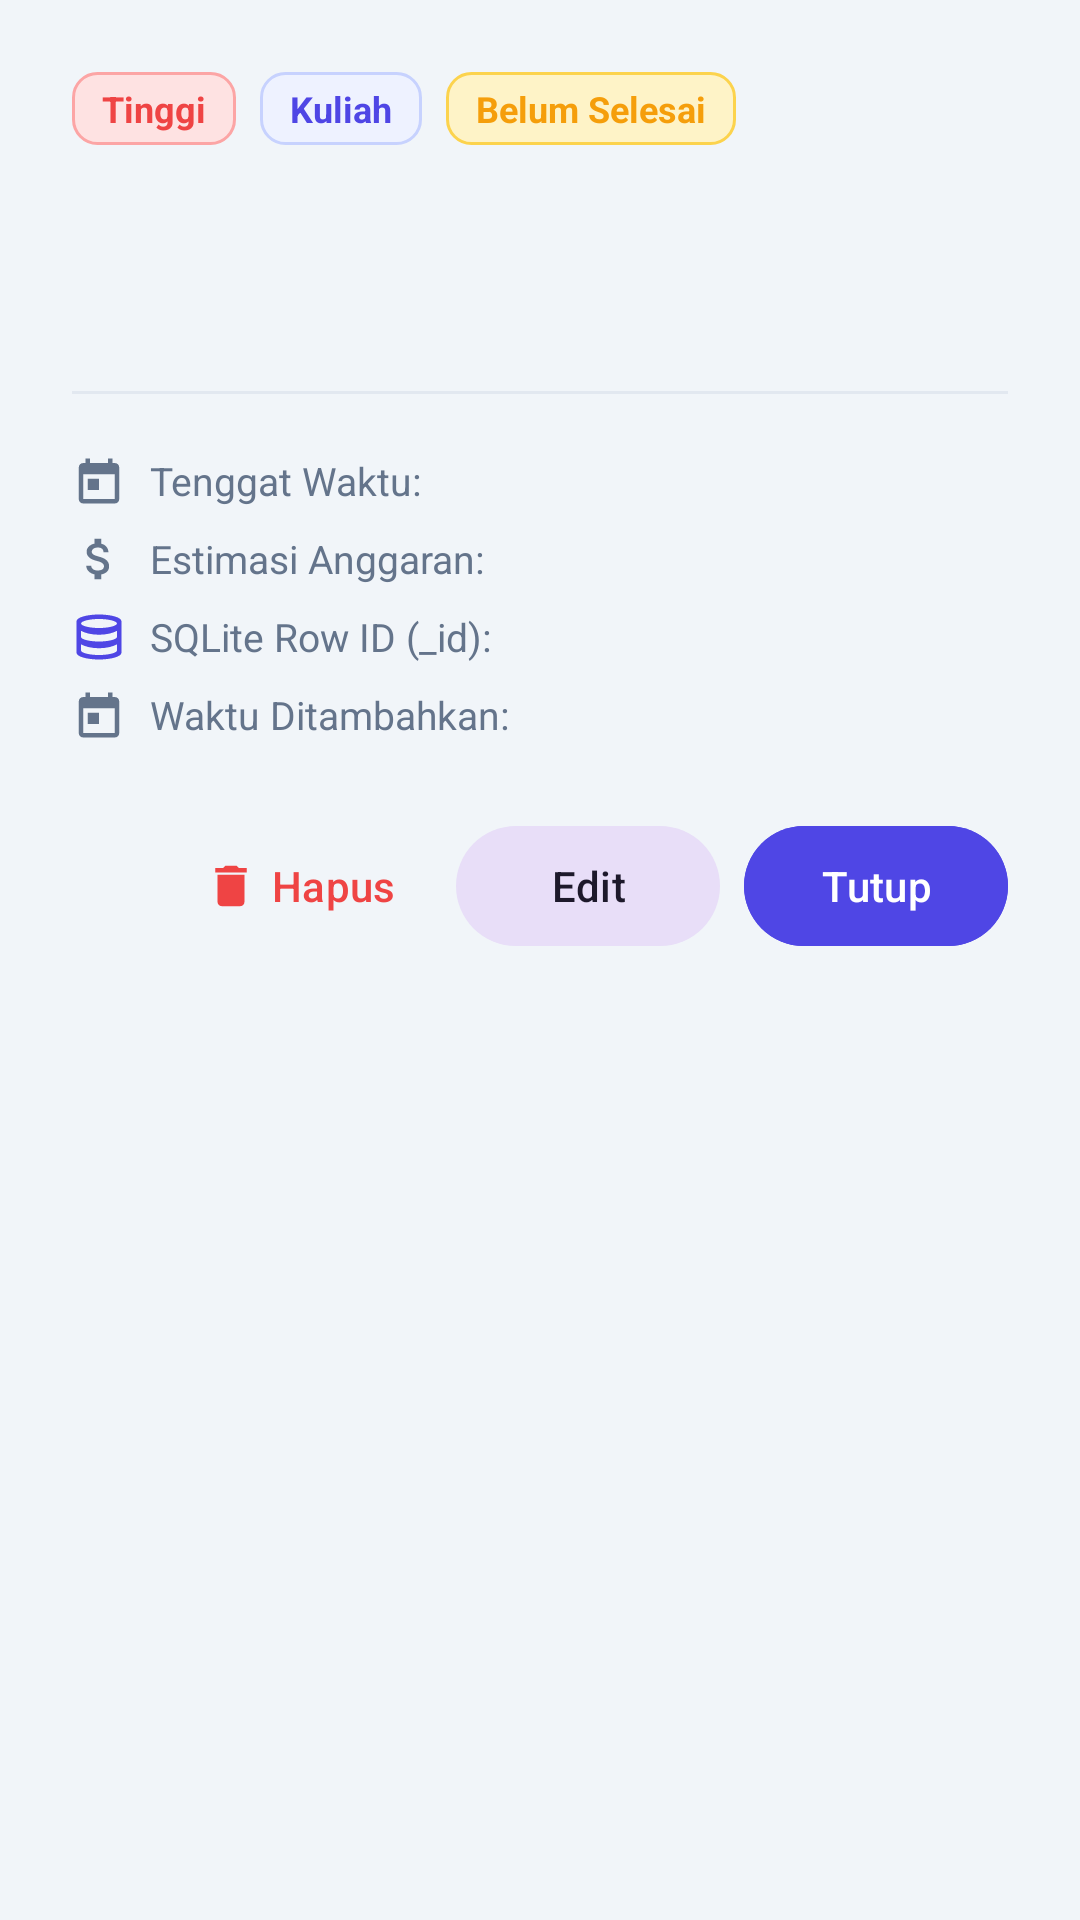

Named icons in this screenshot (1080×1920) and their bounding boxes, (x1, y1, x2, y2):
Budget: (86, 538, 109, 580)
Calendar: (78, 458, 120, 504)
Database: (76, 614, 122, 660)
Date: (78, 692, 120, 738)
